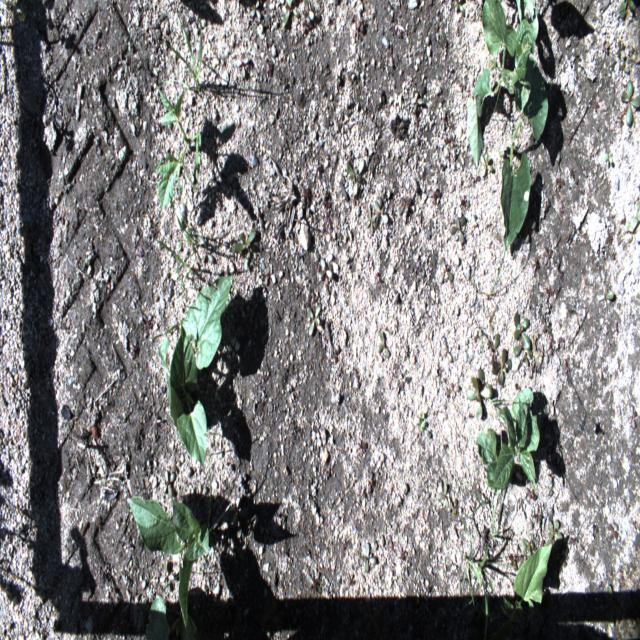crop: (159, 274, 235, 472), (466, 0, 539, 168), (125, 496, 209, 630), (500, 57, 549, 255), (478, 388, 540, 492), (154, 86, 202, 216), (499, 546, 553, 626), (144, 587, 170, 637)
weed: (461, 542, 494, 621), (170, 15, 203, 92), (463, 367, 498, 419), (545, 509, 569, 565), (513, 311, 533, 369), (618, 76, 637, 136), (175, 202, 198, 250), (159, 245, 197, 273), (230, 227, 257, 265), (344, 157, 368, 198), (491, 346, 512, 390), (366, 203, 389, 240), (437, 251, 458, 289), (486, 505, 508, 541), (306, 300, 326, 338), (314, 252, 336, 284), (359, 541, 378, 578), (299, 4, 322, 33), (292, 168, 310, 205), (276, 1, 297, 32), (233, 50, 252, 84), (406, 86, 422, 126), (4, 3, 26, 31), (520, 532, 538, 566), (621, 209, 638, 244), (363, 460, 376, 504), (447, 213, 466, 242), (395, 189, 412, 220), (304, 568, 322, 595), (522, 485, 542, 509), (543, 328, 559, 358), (479, 152, 494, 183), (352, 7, 366, 40), (378, 324, 391, 359), (485, 323, 503, 348), (225, 335, 243, 360), (415, 400, 427, 437), (613, 37, 630, 63), (424, 180, 442, 203), (541, 241, 555, 270), (445, 114, 459, 142), (247, 2, 262, 27), (157, 565, 172, 589), (593, 288, 618, 302), (443, 379, 460, 399), (602, 143, 614, 168), (618, 3, 638, 18), (441, 335, 452, 361), (555, 171, 566, 195), (452, 2, 467, 17)
